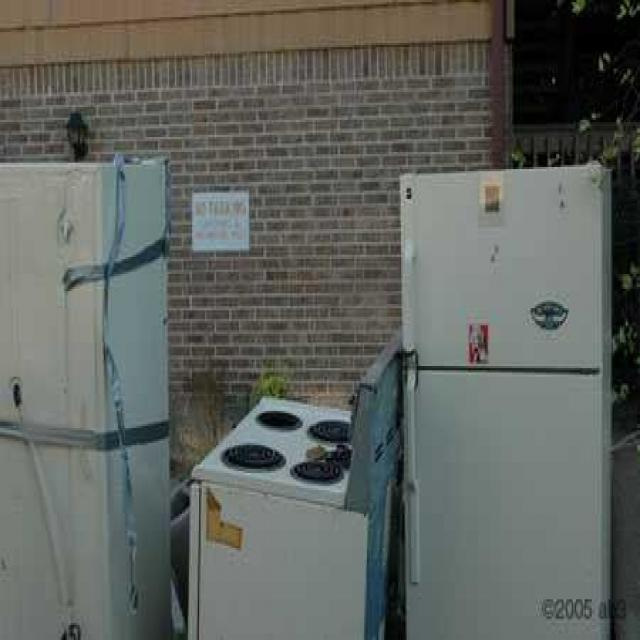refrigerator: (398, 173, 611, 640)
